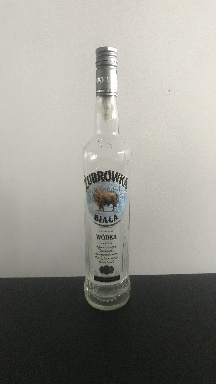butelka: (80, 43, 132, 313)
